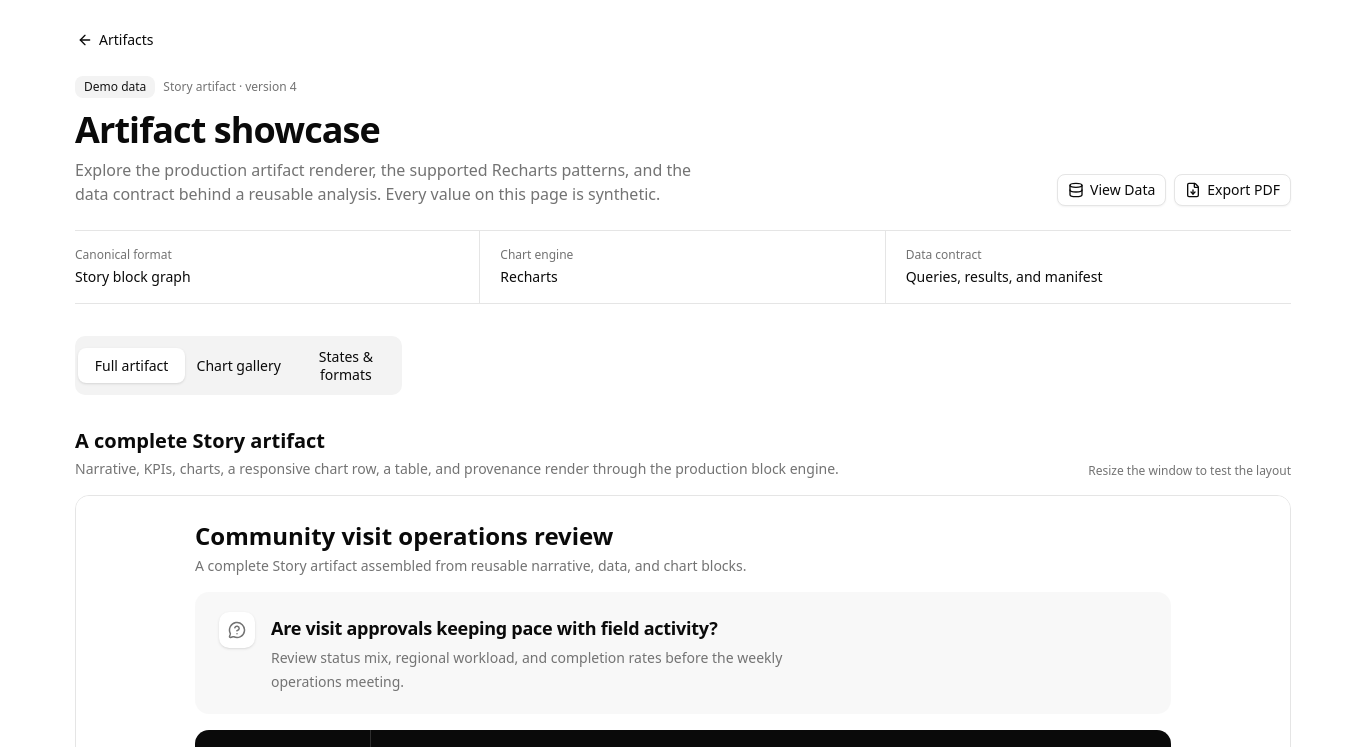
ArtifactDemoPage › shows a production-rendered Story artifact and the demo data contract
Expected: the heading "Artifact showcase" is shown, [75,105,380,154]
Expected: the heading "Community visit operations review" is shown, [195,519,613,552]
Click the button with test id "artifact-view-data": (1112, 190) [1057,174,1166,206]
(page scrolled)
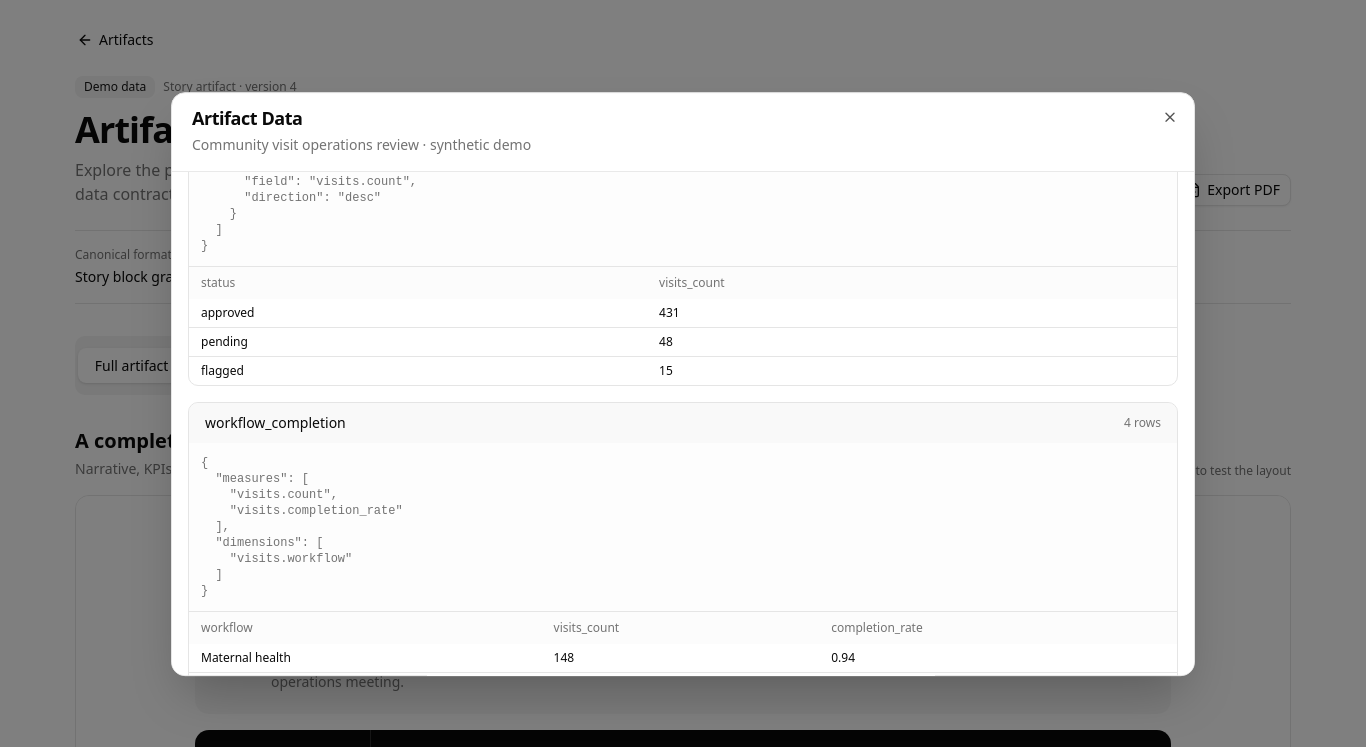
Result: the dialog is shown at [171,92,1195,676]
Result: the text "workflow_completion" is shown at [205,413,346,433]
